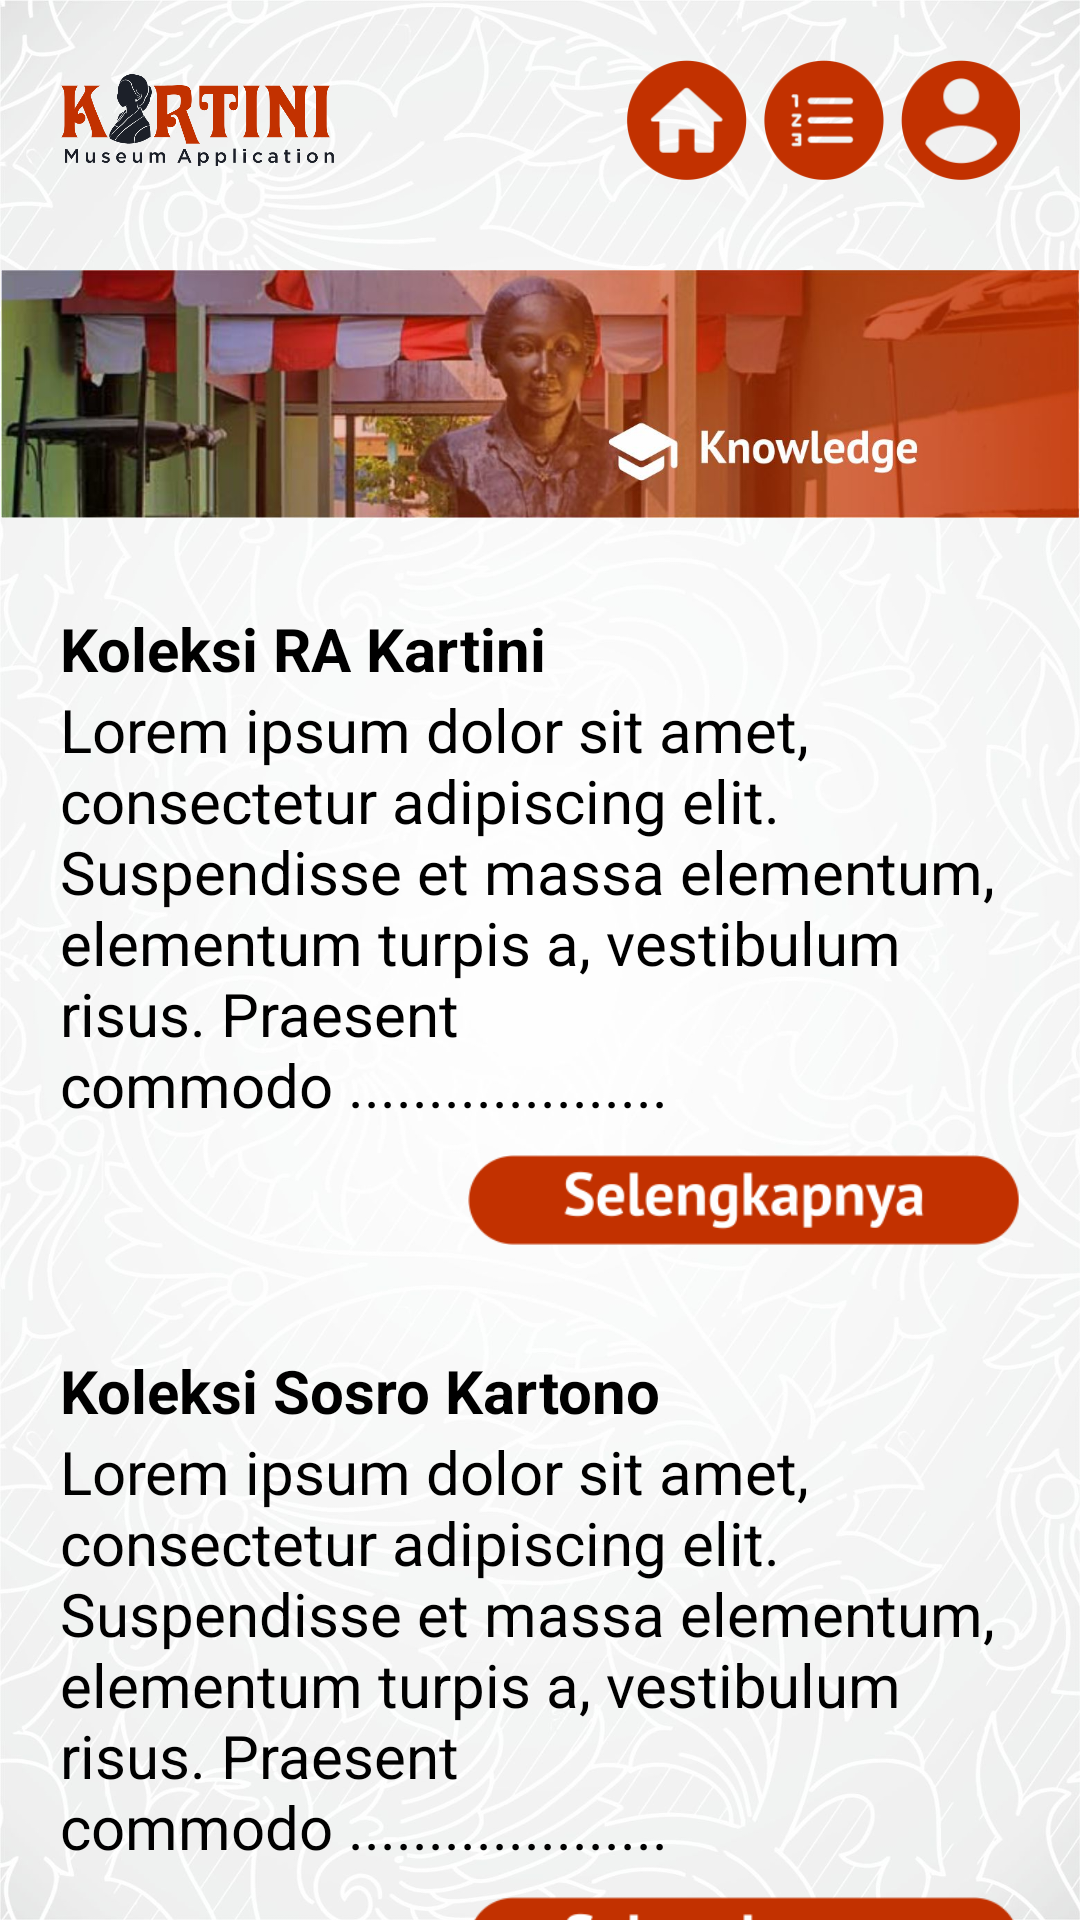

Where to tap for icons on this 1080px x 1920px app screen, as (x=x, y=y):
home: (x=687, y=120)
menu: (x=824, y=120)
user: (x=960, y=120)
